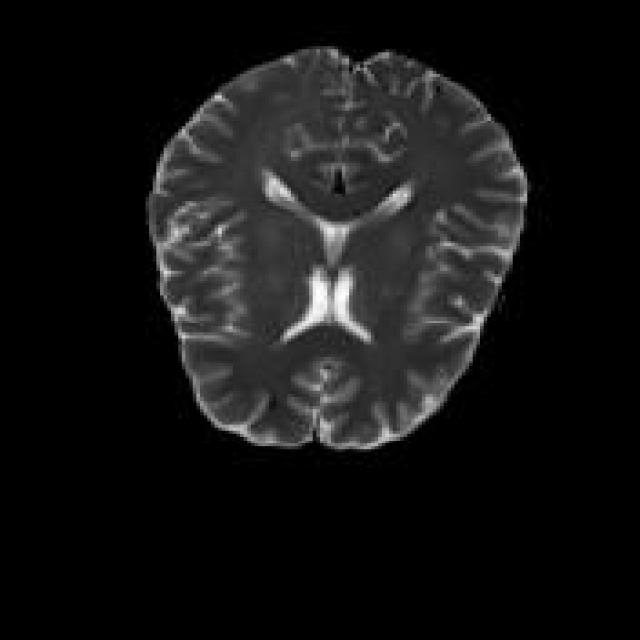parkinson: (142, 43, 527, 452)
